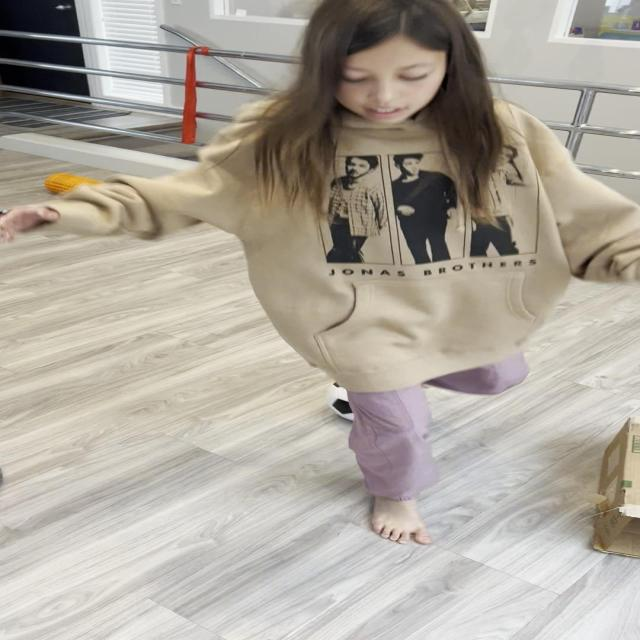Soccer Ball: (325, 374, 412, 422)
